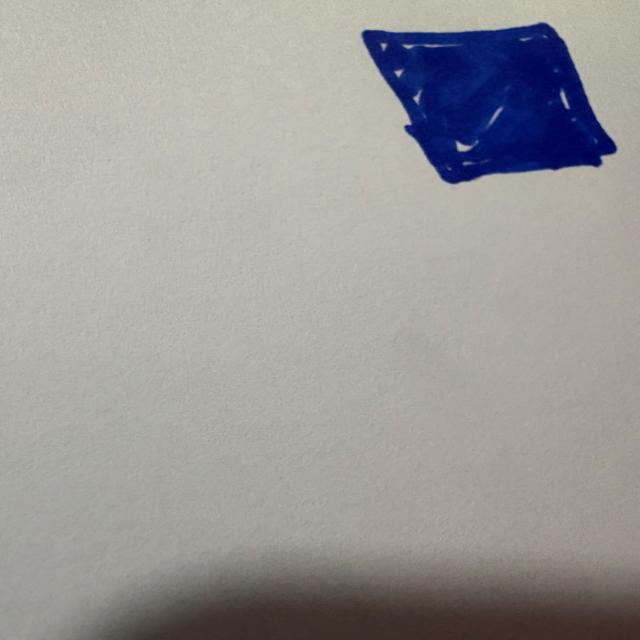Square: (362, 23, 617, 184)
